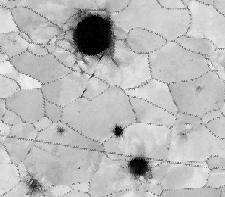good_void: (57, 7, 121, 74), (123, 151, 155, 182), (23, 171, 49, 196), (109, 124, 128, 138), (192, 82, 206, 95), (79, 85, 91, 100), (178, 129, 191, 142), (52, 124, 65, 134), (89, 70, 99, 79), (26, 147, 33, 156), (76, 164, 83, 171), (1, 112, 6, 119)
